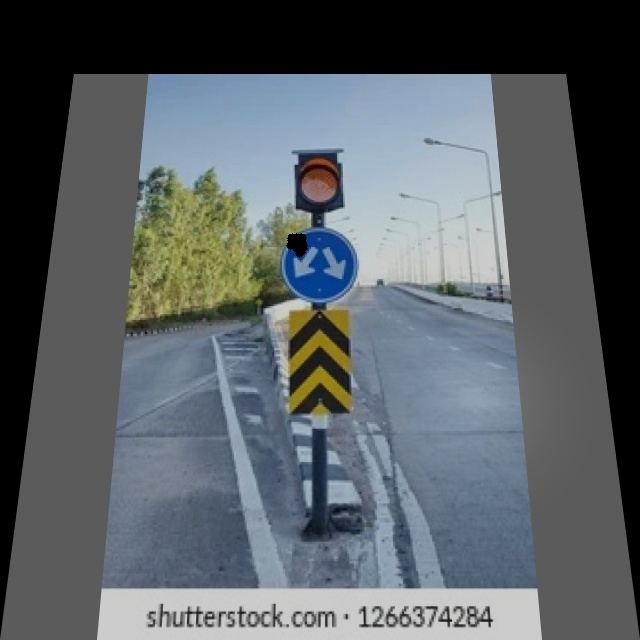Pass_Either_Side: (280, 226, 362, 302)
